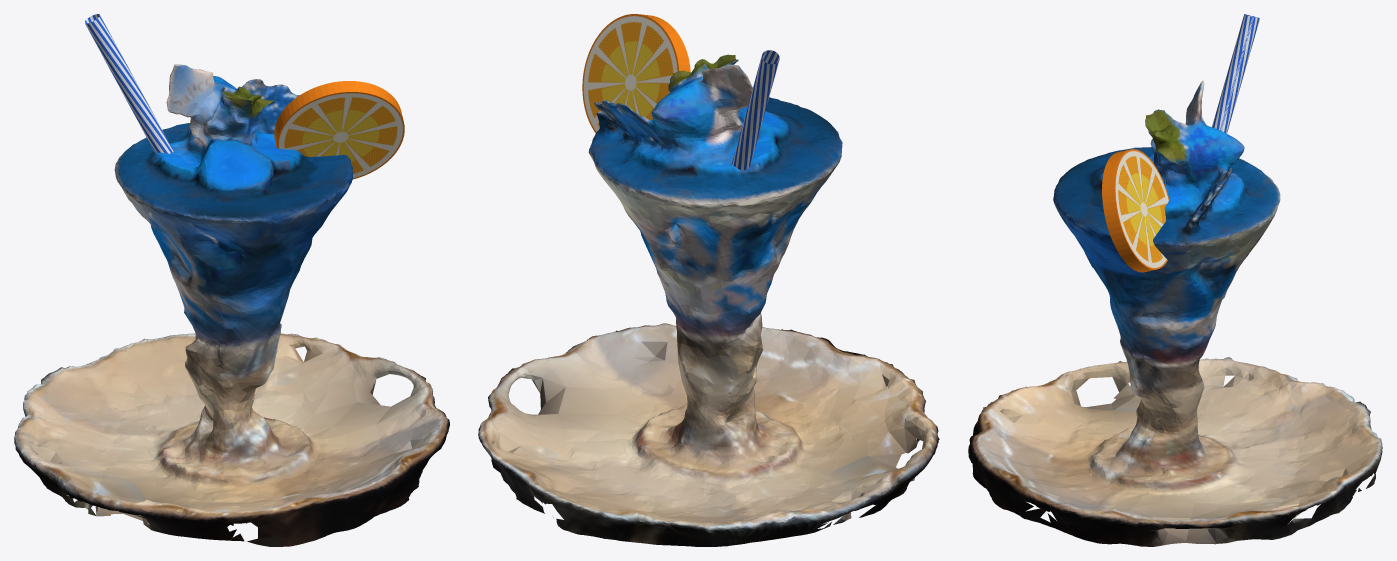
Rendered from drink-blue-lagoon.glb.
The picture shows the model from 3 angles, left to right: view 1: azimuth 30°, elevation 25°; view 2: azimuth 150°, elevation 25°; view 3: azimuth 270°, elevation 25°; orthographic projection. The views are drawn at different scales.
Parts seen in each view (by area): view 1: glass, garnish; view 2: glass, garnish; view 3: glass, garnish.
Part boxes in pixels (bbox=[...]): glass: bbox=[14, 64, 449, 546]; garnish: bbox=[84, 14, 404, 179]; glass: bbox=[478, 54, 939, 546]; garnish: bbox=[582, 14, 779, 170]; glass: bbox=[968, 81, 1382, 546]; garnish: bbox=[1102, 14, 1259, 272].
Size of the model in its own units: 0.1754 by 0.1933 by 0.1768.
Materials: 2 (2 with a texture image).
